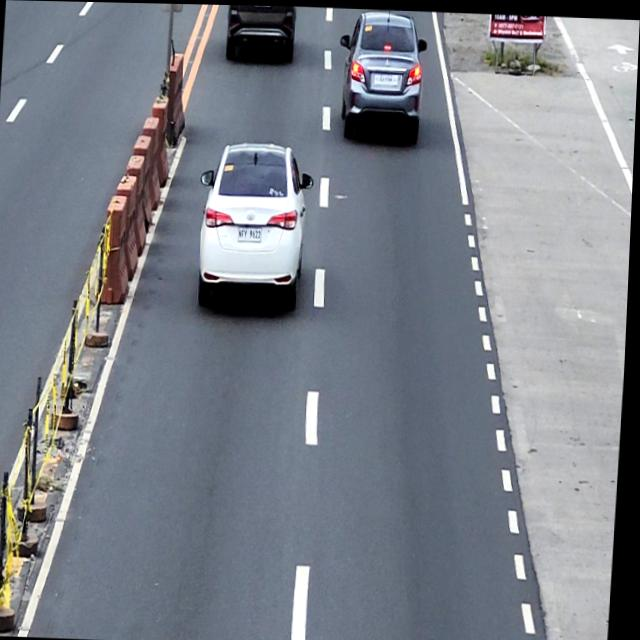Car: (196, 137, 317, 312), (336, 7, 429, 149), (223, 4, 295, 61)
License-Plate: (238, 225, 264, 241), (377, 71, 394, 84)
